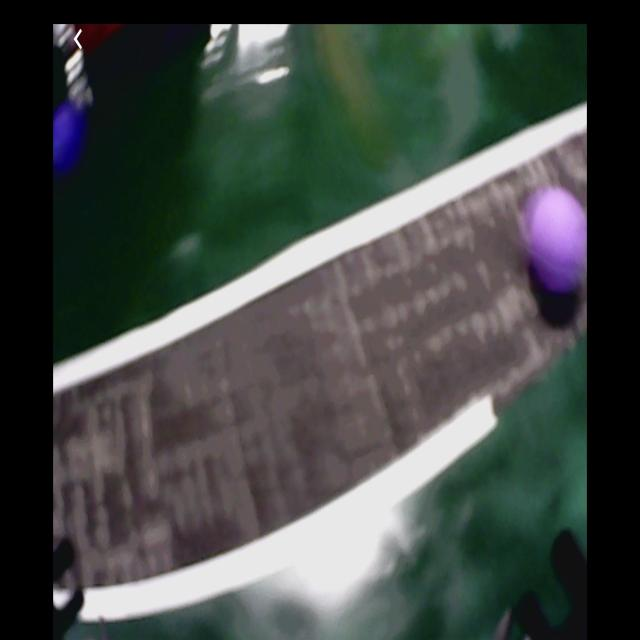ball: (531, 188, 586, 294), (54, 102, 82, 175)
